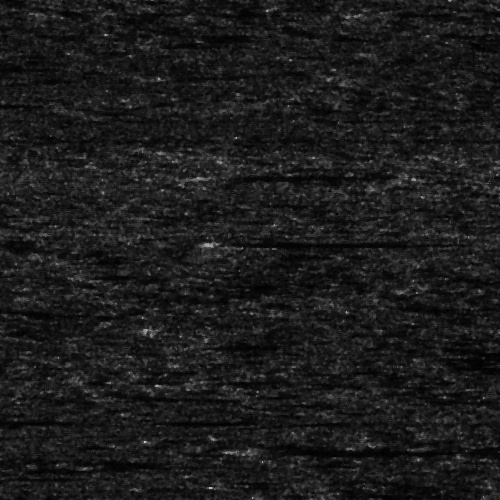object: (183, 239, 256, 246), (199, 174, 240, 177), (230, 445, 241, 450)
shadow: (219, 239, 395, 246), (236, 445, 428, 450), (219, 174, 396, 177), (0, 101, 55, 106)
